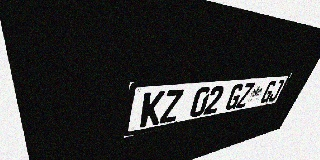0: (189, 86, 212, 118)
2: (203, 85, 225, 115)
G: (224, 83, 245, 111), (259, 80, 278, 104)
J: (267, 80, 285, 102)
K: (139, 91, 165, 128)
Z: (159, 89, 184, 124), (235, 82, 255, 109)
